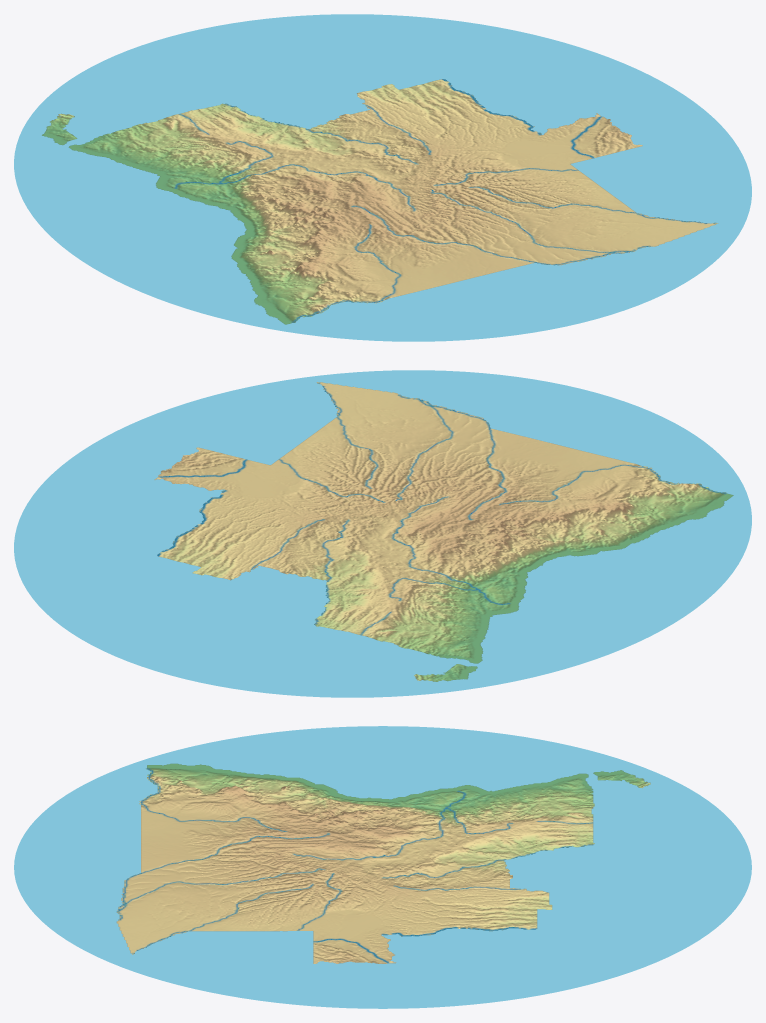
File: AGO-terrain.glb
3 views of the same model, one above another, from view 1: azimuth 30°, elevation 25°; view 2: azimuth 150°, elevation 25°; view 3: azimuth 270°, elevation 25° (orthographic). The views are drawn at different scales.
Parts seen in each view (by area): view 1: Relevo com hidrografia; view 2: Relevo com hidrografia; view 3: Relevo com hidrografia.
Part boxes in pixels (x1,y1,x2,y2): Relevo com hidrografia: (14, 14, 751, 341); Relevo com hidrografia: (14, 370, 751, 697); Relevo com hidrografia: (14, 726, 751, 1008).
Size of the model in its own units: 2.01 by 0.0282 by 2.22.
2 materials, 1 textured.
